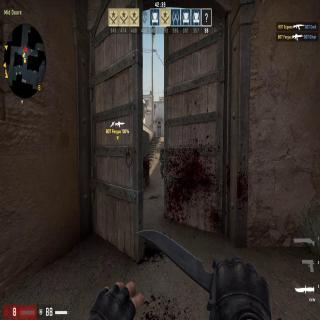CT-Body: (159, 146, 164, 178)
CT-Head: (160, 147, 164, 154)
